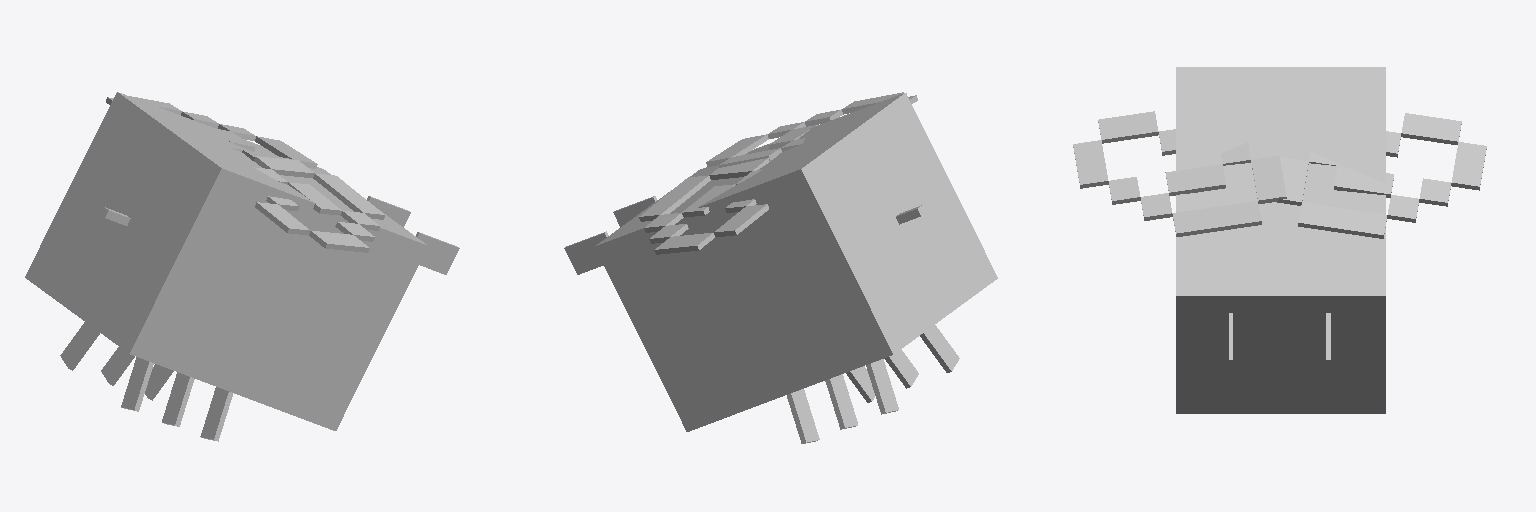
The model's file is Bee_ (142).obj.
The picture shows the model from 3 angles: view 1: azimuth 30°, elevation 25°; view 2: azimuth 150°, elevation 25°; view 3: azimuth 270°, elevation 25°; orthographic projection.
Visible parts, largest first — view 1: b_Bee_MAT_0, l_Bee_MAT_0, r_Bee_MAT_0; view 2: b_Bee_MAT_0, r_Bee_MAT_0, l_Bee_MAT_0; view 3: b_Bee_MAT_0, l_Bee_MAT_0, r_Bee_MAT_0.
Part boxes in pixels (x1,y1,x2,y2): b_Bee_MAT_0: (25,92,459,441); l_Bee_MAT_0: (254,156,384,252); r_Bee_MAT_0: (106,96,317,168); b_Bee_MAT_0: (564,93,997,443); r_Bee_MAT_0: (639,158,769,254); l_Bee_MAT_0: (706,92,917,167); b_Bee_MAT_0: (1176,67,1385,413); l_Bee_MAT_0: (1073,111,1286,236); r_Bee_MAT_0: (1277,113,1486,238).
Size of the model in its own units: 0.3091 by 0.2428 by 0.3104.